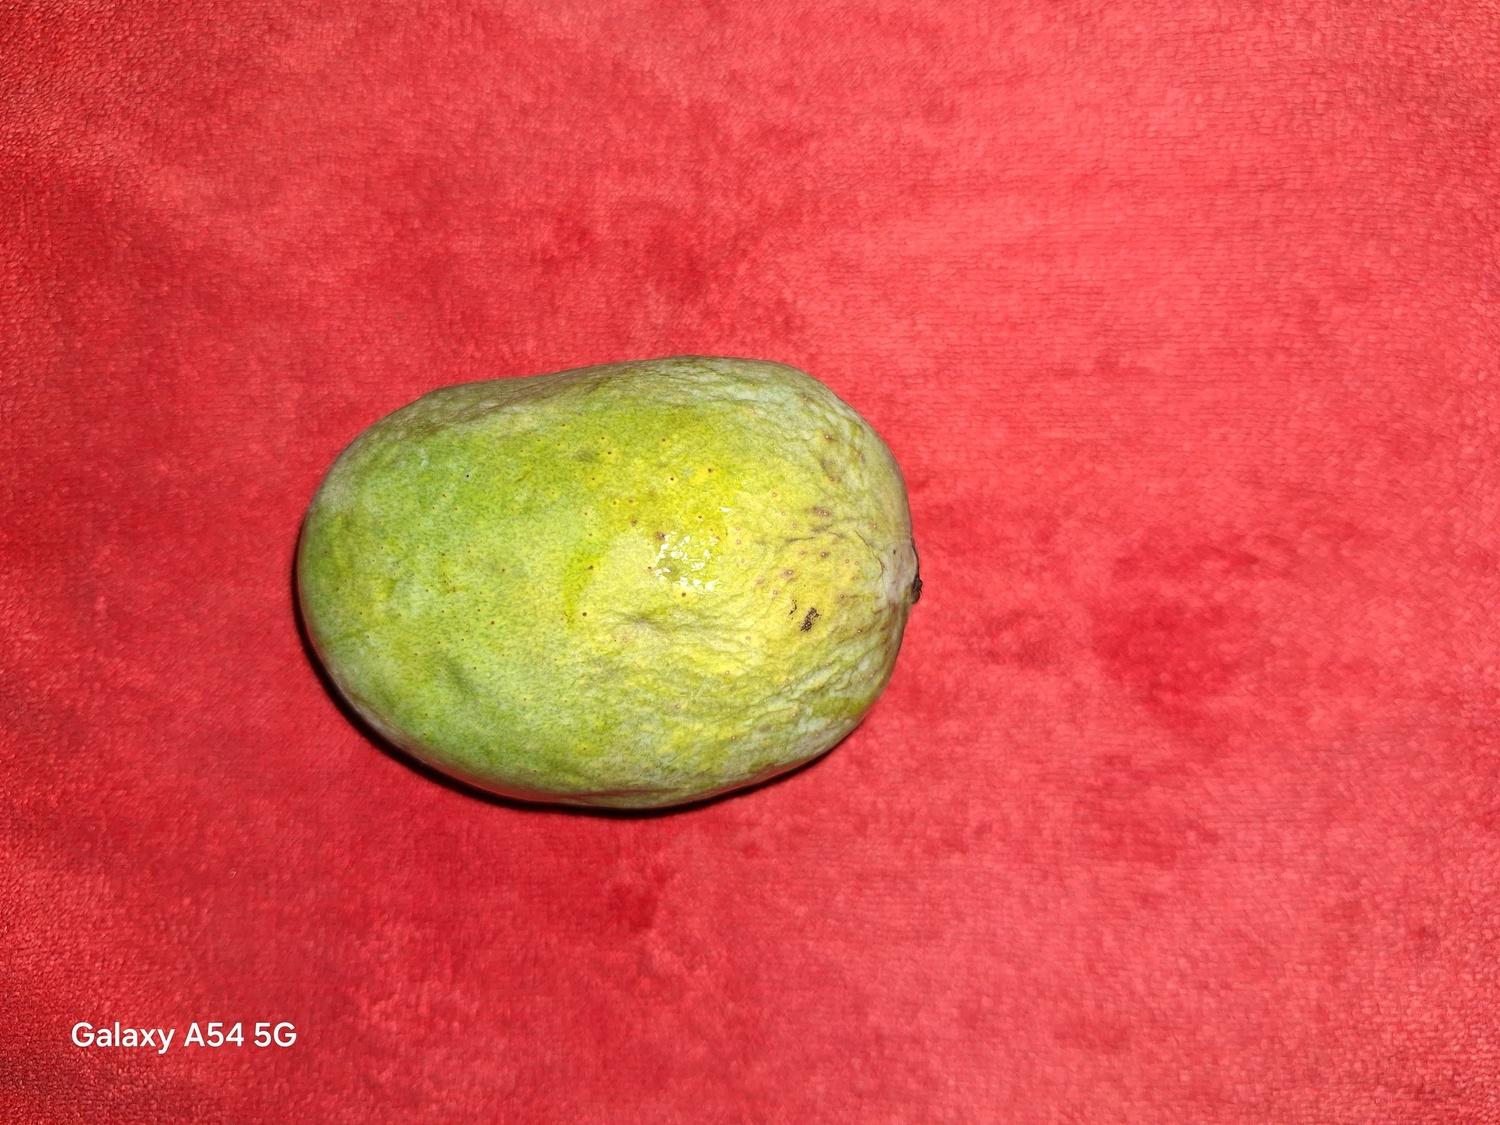mango: (292, 352, 922, 812)
